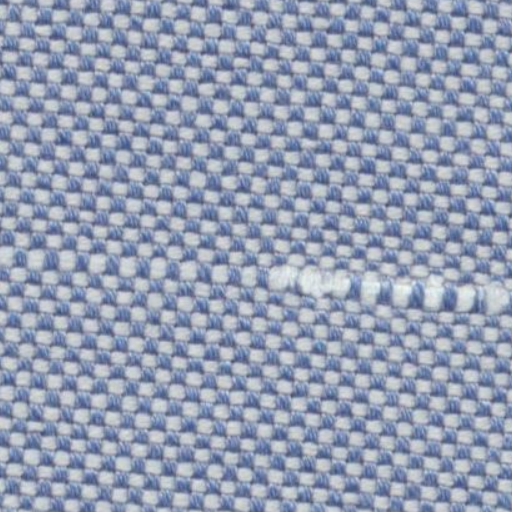DaiSha: (236, 250, 500, 328)
